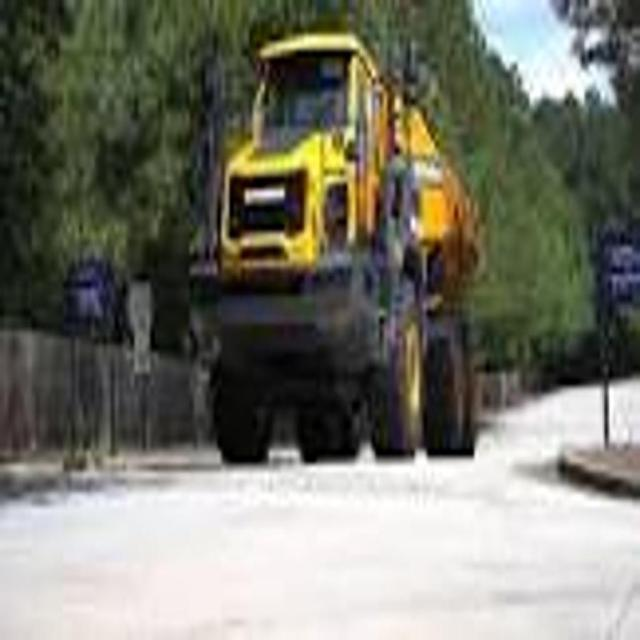dump_truck: (203, 31, 484, 476)
